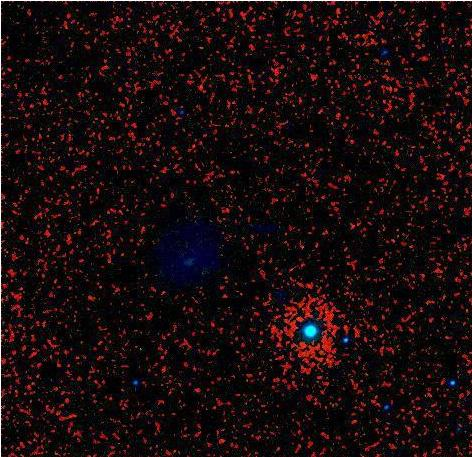star: (299, 63, 329, 93)
